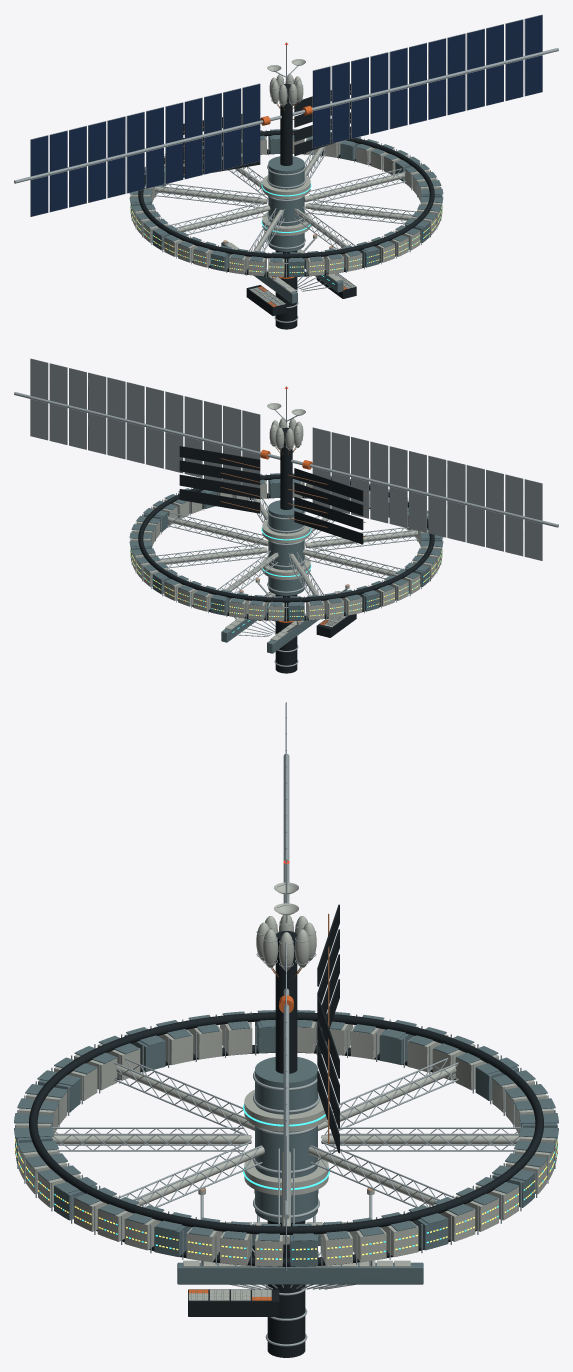
The model's file is hero-station-near.glb.
The picture shows the model from 3 angles, top to bottom: view 1: azimuth 30°, elevation 25°; view 2: azimuth 150°, elevation 25°; view 3: azimuth 270°, elevation 25°; orthographic projection. The views are drawn at different scales.
Visible parts, largest first — view 1: hero-station / near; view 2: hero-station / near; view 3: hero-station / near.
Part boxes in pixels (x1,y1,x2,y2): hero-station / near: (14, 14, 558, 329); hero-station / near: (14, 358, 558, 673); hero-station / near: (14, 702, 558, 1357).
Bounding box in the file's own units: 310 × 154 × 155.
